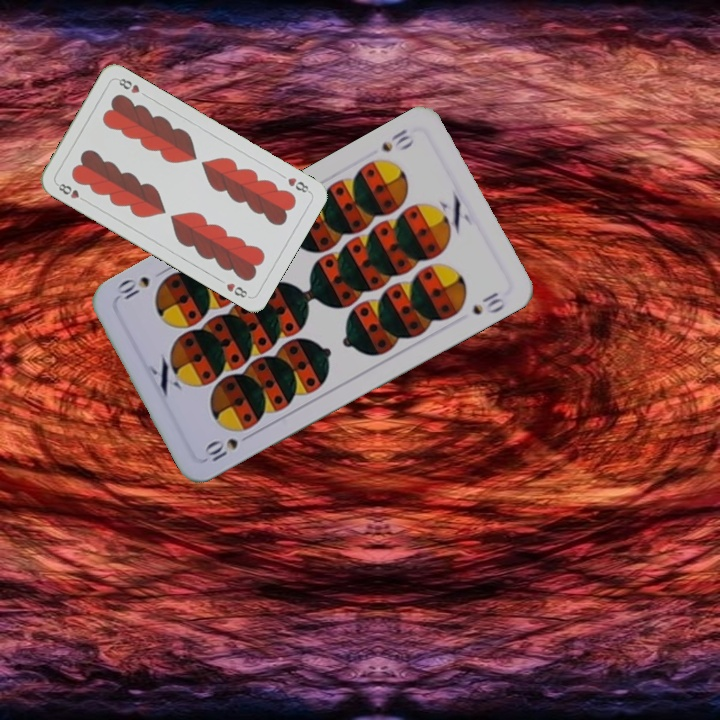H8: (52, 179, 89, 205), (283, 173, 313, 195)
S10: (200, 434, 241, 465), (377, 124, 417, 155)
